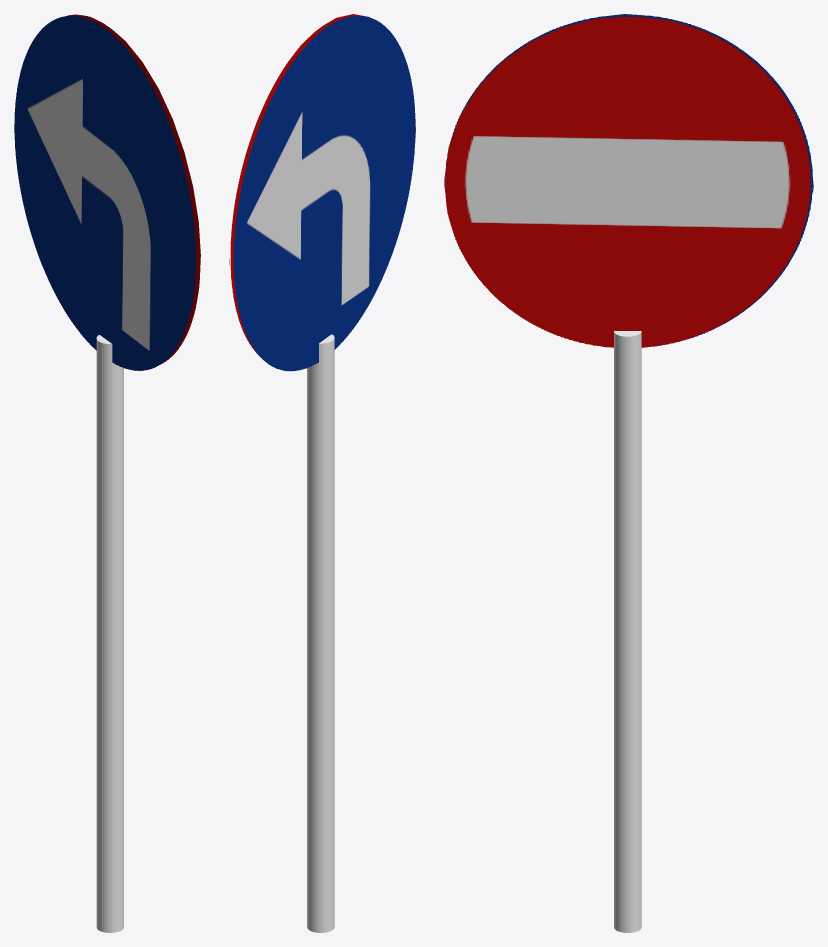
Rendered from Znak_drogowy.fbx.
3 renders of one model, left to right at view 1: azimuth 30°, elevation 25°; view 2: azimuth 150°, elevation 25°; view 3: azimuth 270°, elevation 25°, orthographic.
Parts seen in each view (by area): view 1: Circle; view 2: Circle; view 3: Circle.
Boxes of the visible parts, left/top/right/bottom form: Circle: left=14, top=14, right=200, bottom=932; Circle: left=229, top=14, right=415, bottom=932; Circle: left=444, top=14, right=813, bottom=932.
Bounding box in the file's own units: 15.1 × 544 × 200.
1 material, 1 textured.
